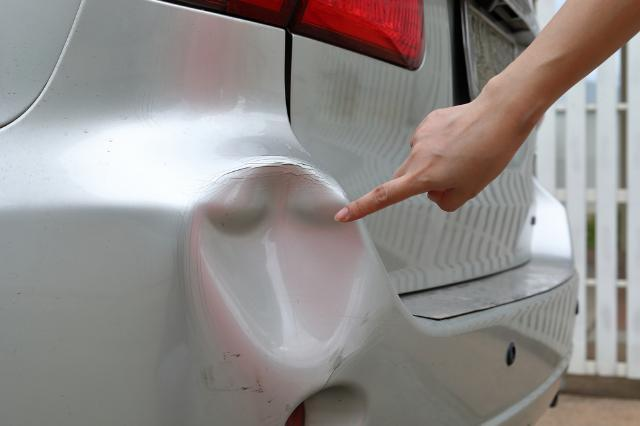dent: (180, 157, 373, 369)
